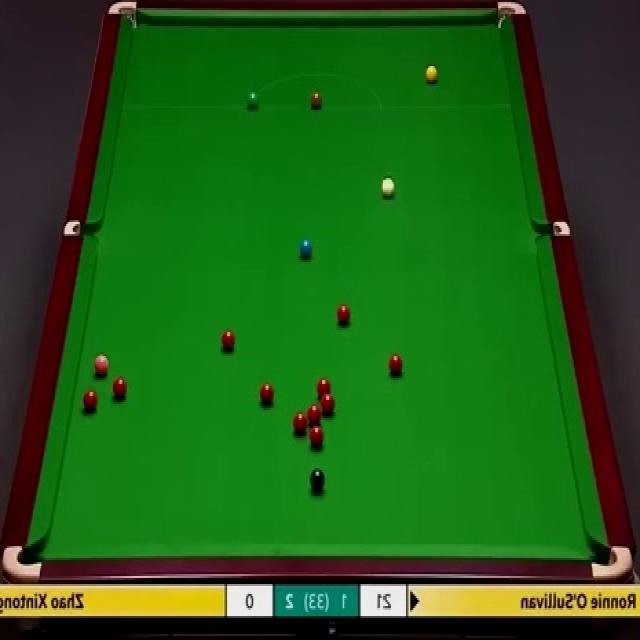black-ball: (309, 468, 326, 493)
blue-ball: (298, 237, 313, 258)
brown-ball: (310, 90, 323, 110)
green-ball: (246, 92, 258, 109)
pink-ball: (93, 352, 109, 378)
red-ball: (387, 352, 404, 379), (258, 381, 275, 405), (110, 376, 126, 401), (292, 412, 307, 437), (82, 389, 97, 412), (336, 304, 351, 326), (310, 426, 323, 449), (306, 406, 322, 424), (222, 330, 235, 352), (316, 377, 332, 394), (320, 392, 334, 408)
white-ball: (380, 175, 396, 200)
yellow-ball: (424, 65, 437, 86)
